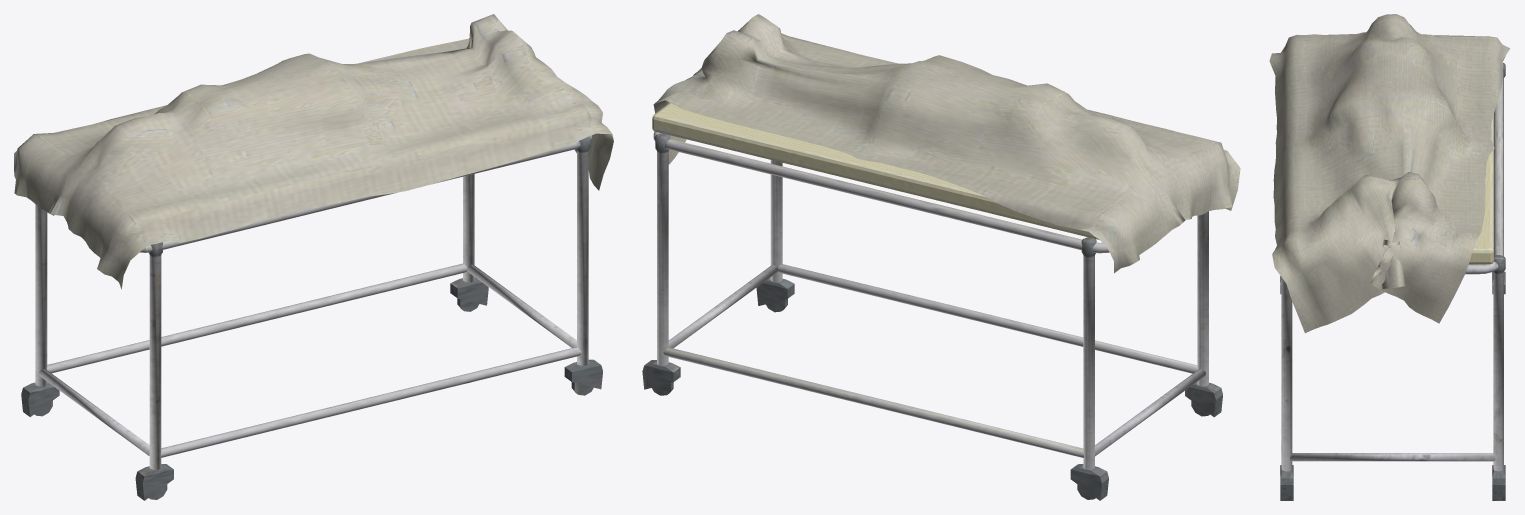
File: stretcher.glb
3 renders of one model, left to right at view 1: azimuth 30°, elevation 25°; view 2: azimuth 150°, elevation 25°; view 3: azimuth 270°, elevation 25°, orthographic. The views are drawn at different scales.
Parts seen in each view (by area): view 1: Maca; view 2: Maca; view 3: Maca.
Boxes of the visible parts, x1,y1,x2,y2 form: Maca: (14, 14, 613, 500); Maca: (642, 14, 1240, 500); Maca: (1269, 14, 1510, 500).
Bounding box in the file's own units: 243 × 155 × 108.
Materials: 4 (4 with a texture image).
